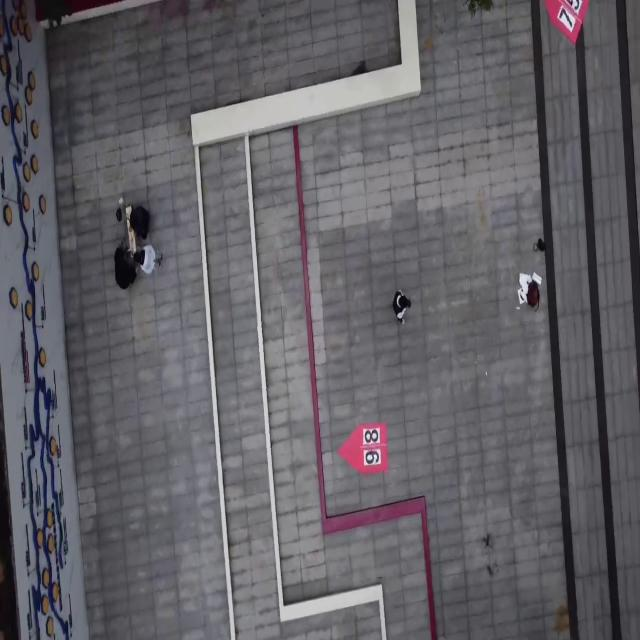-sign-: (338, 420, 388, 474), (545, 0, 590, 46)
